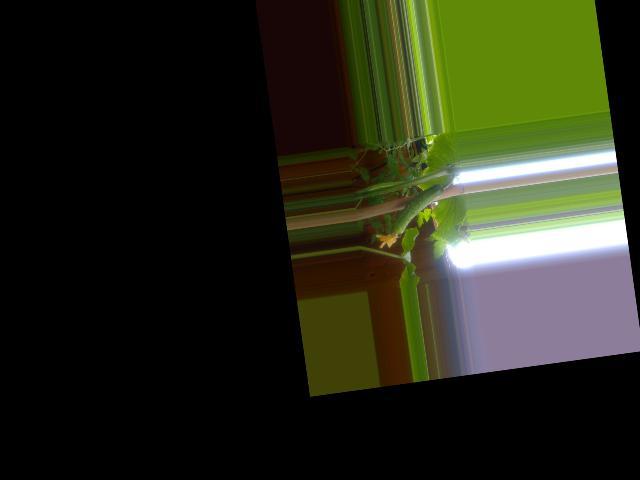cucumber: (369, 184, 450, 250)
